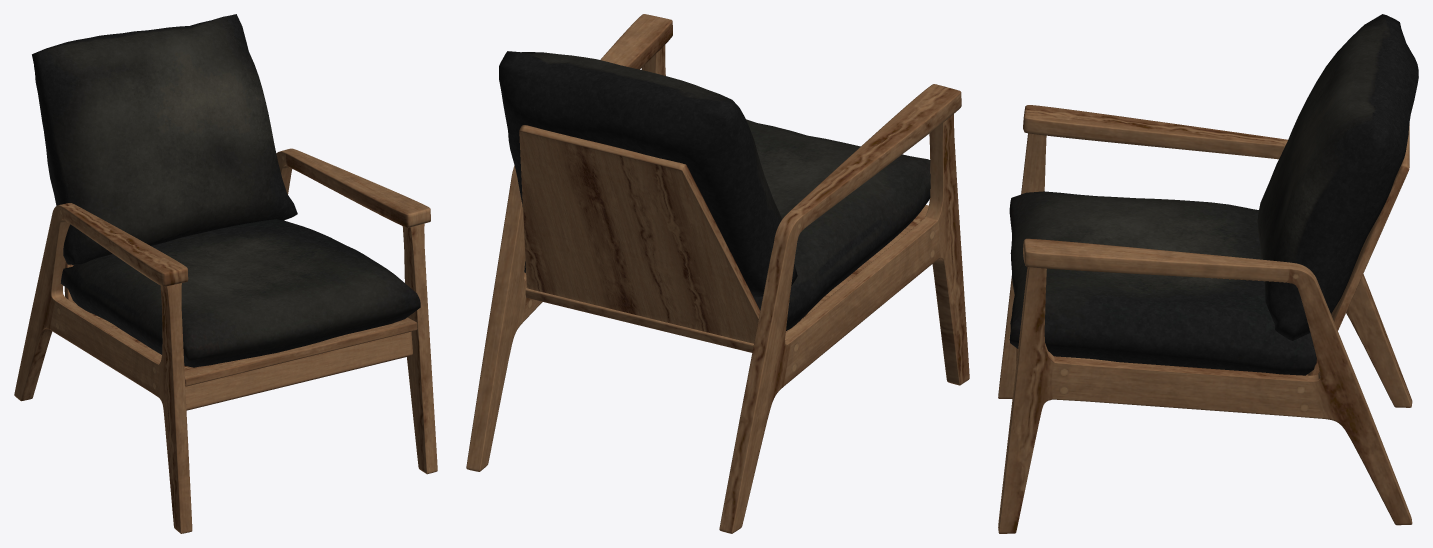
File: modern_arm_chair_01.obj
The picture shows the model from 3 angles, left to right: view 1: azimuth 30°, elevation 25°; view 2: azimuth 150°, elevation 25°; view 3: azimuth 270°, elevation 25°; orthographic projection. The views are drawn at different scales.
Visible parts, largest first — view 1: modern_arm_chair_01; view 2: modern_arm_chair_01; view 3: modern_arm_chair_01.
Part boxes in pixels (<box>): modern_arm_chair_01: <box>14,14,437,533</box>; modern_arm_chair_01: <box>466,14,969,533</box>; modern_arm_chair_01: <box>998,14,1418,533</box>.
Bounding box in the file's own units: 0.8203 × 1.02 × 0.9866.
Materials: 2 (2 with a texture image).
